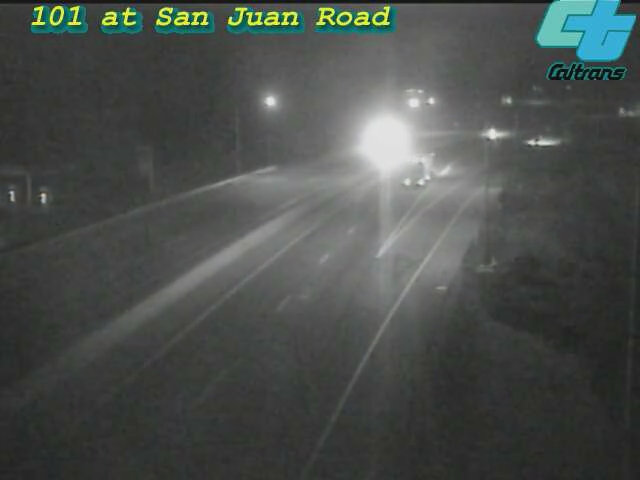vehicle: (376, 134, 456, 214), (355, 118, 405, 168), (462, 109, 512, 159), (515, 116, 565, 166)
